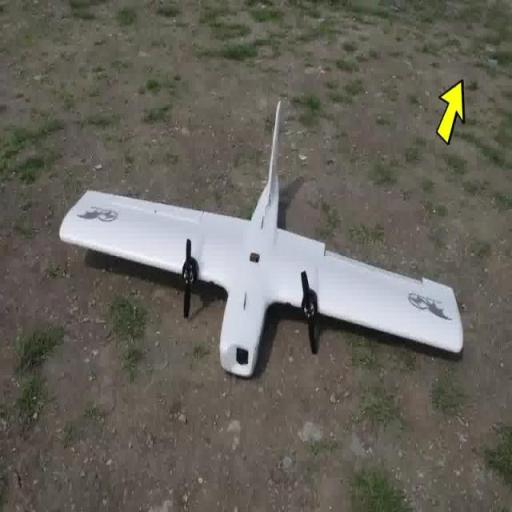uav: (58, 96, 466, 381)
